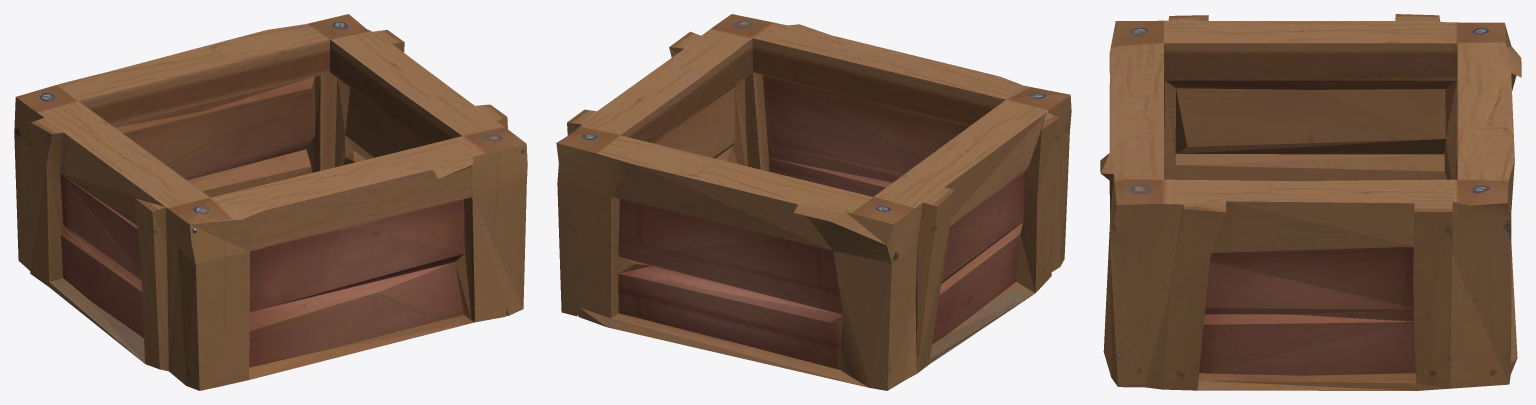
The model's file is debrisCrate.glb.
The picture shows the model from 3 angles, left to right: view 1: azimuth 30°, elevation 25°; view 2: azimuth 150°, elevation 25°; view 3: azimuth 270°, elevation 25°; orthographic projection. The views are drawn at different scales.
Bounding box in the file's own units: 1.9 × 0.8509 × 1.72.
1 material, 1 textured.
